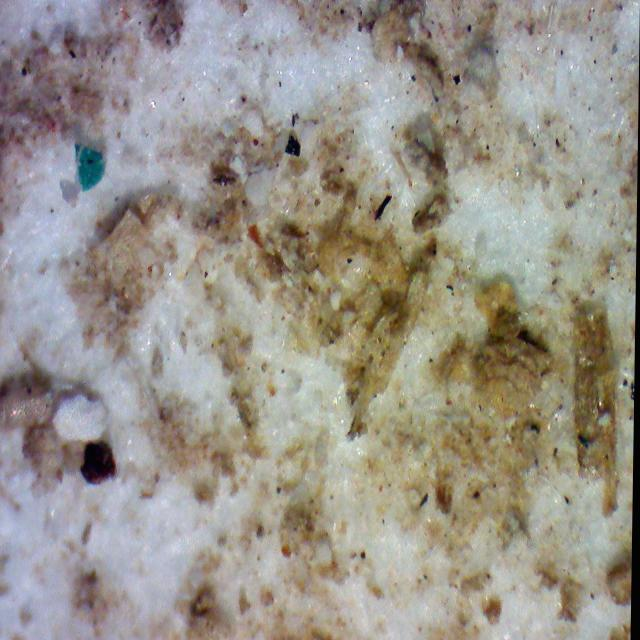microplastic: (68, 140, 109, 200)
